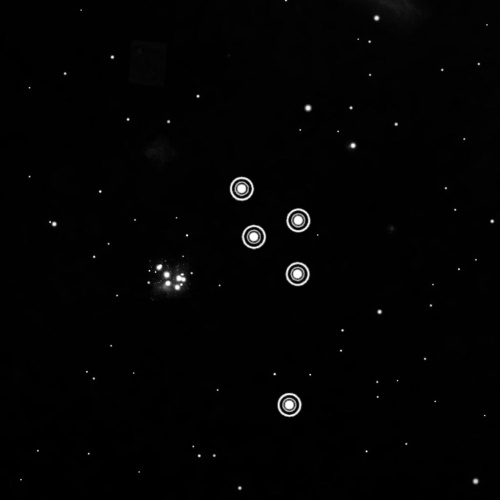delphinus: (224, 169, 316, 422)
